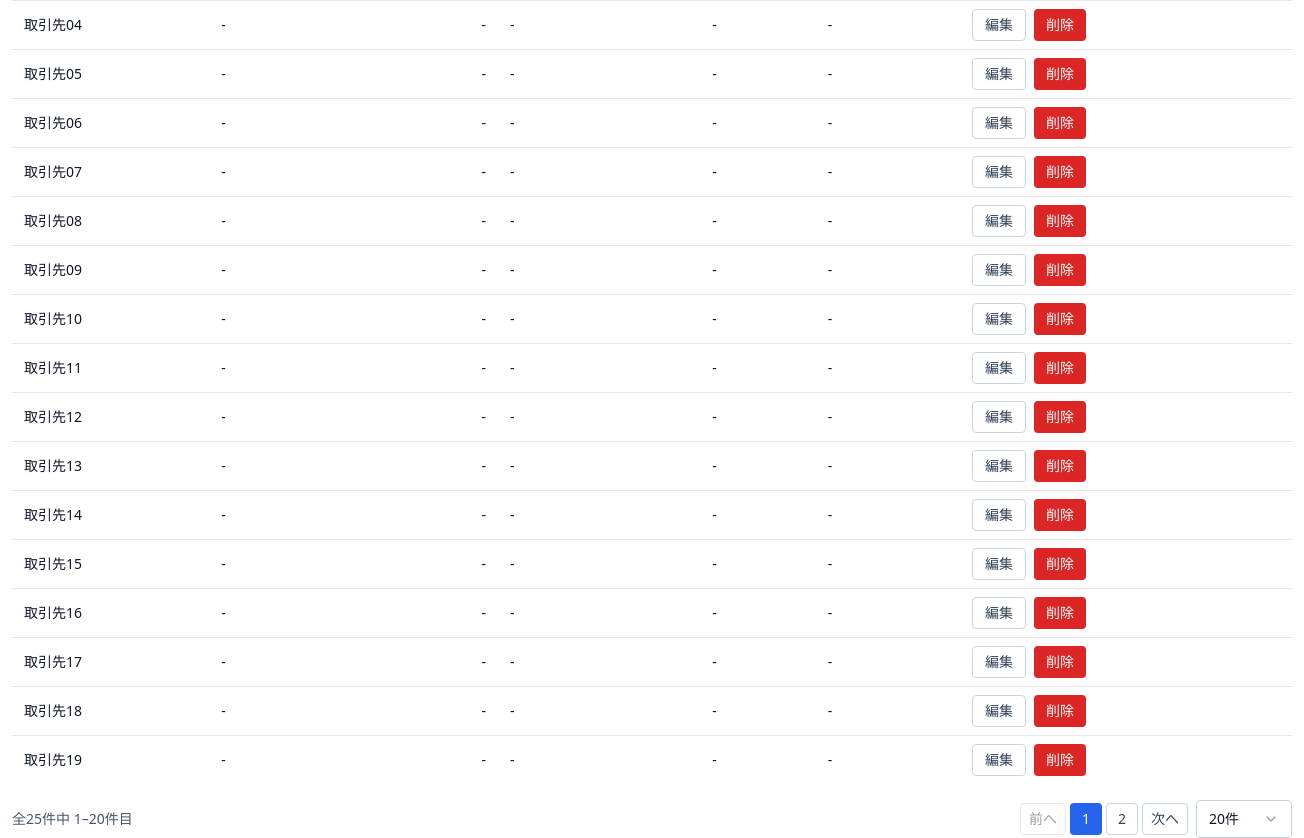
Test case: VendorList: ページネーション › 次へ押下でページが切り替わり表示行が変わる
The width and height of the screenshot is (1304, 838).
(page scrolled)
Expected: the row "取引先24" is not shown
Click the button "次へ" at point(1165, 819), box [1142, 803, 1188, 835]
(page scrolled)
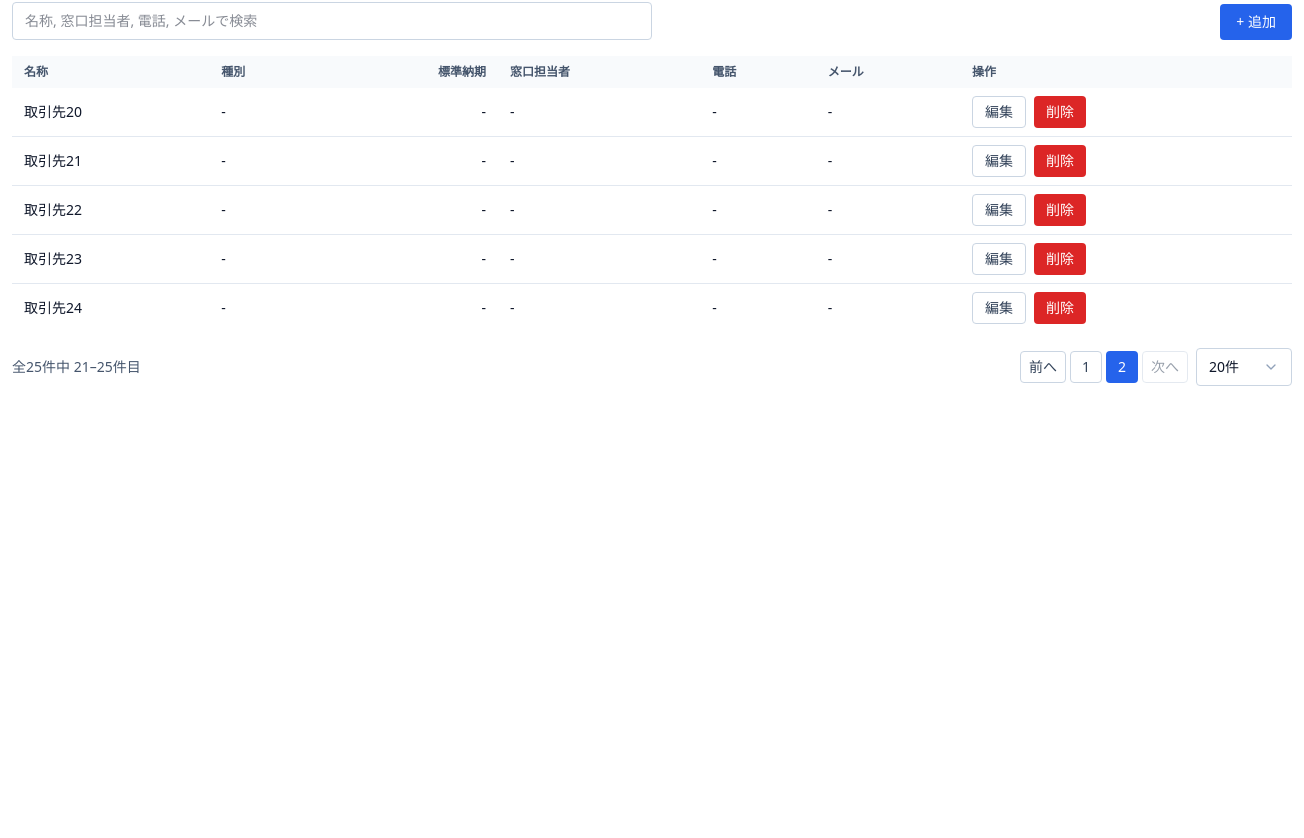
Expected: the row "取引先24 - - - - - 編集 削除" is shown, [12, 284, 1292, 332]
